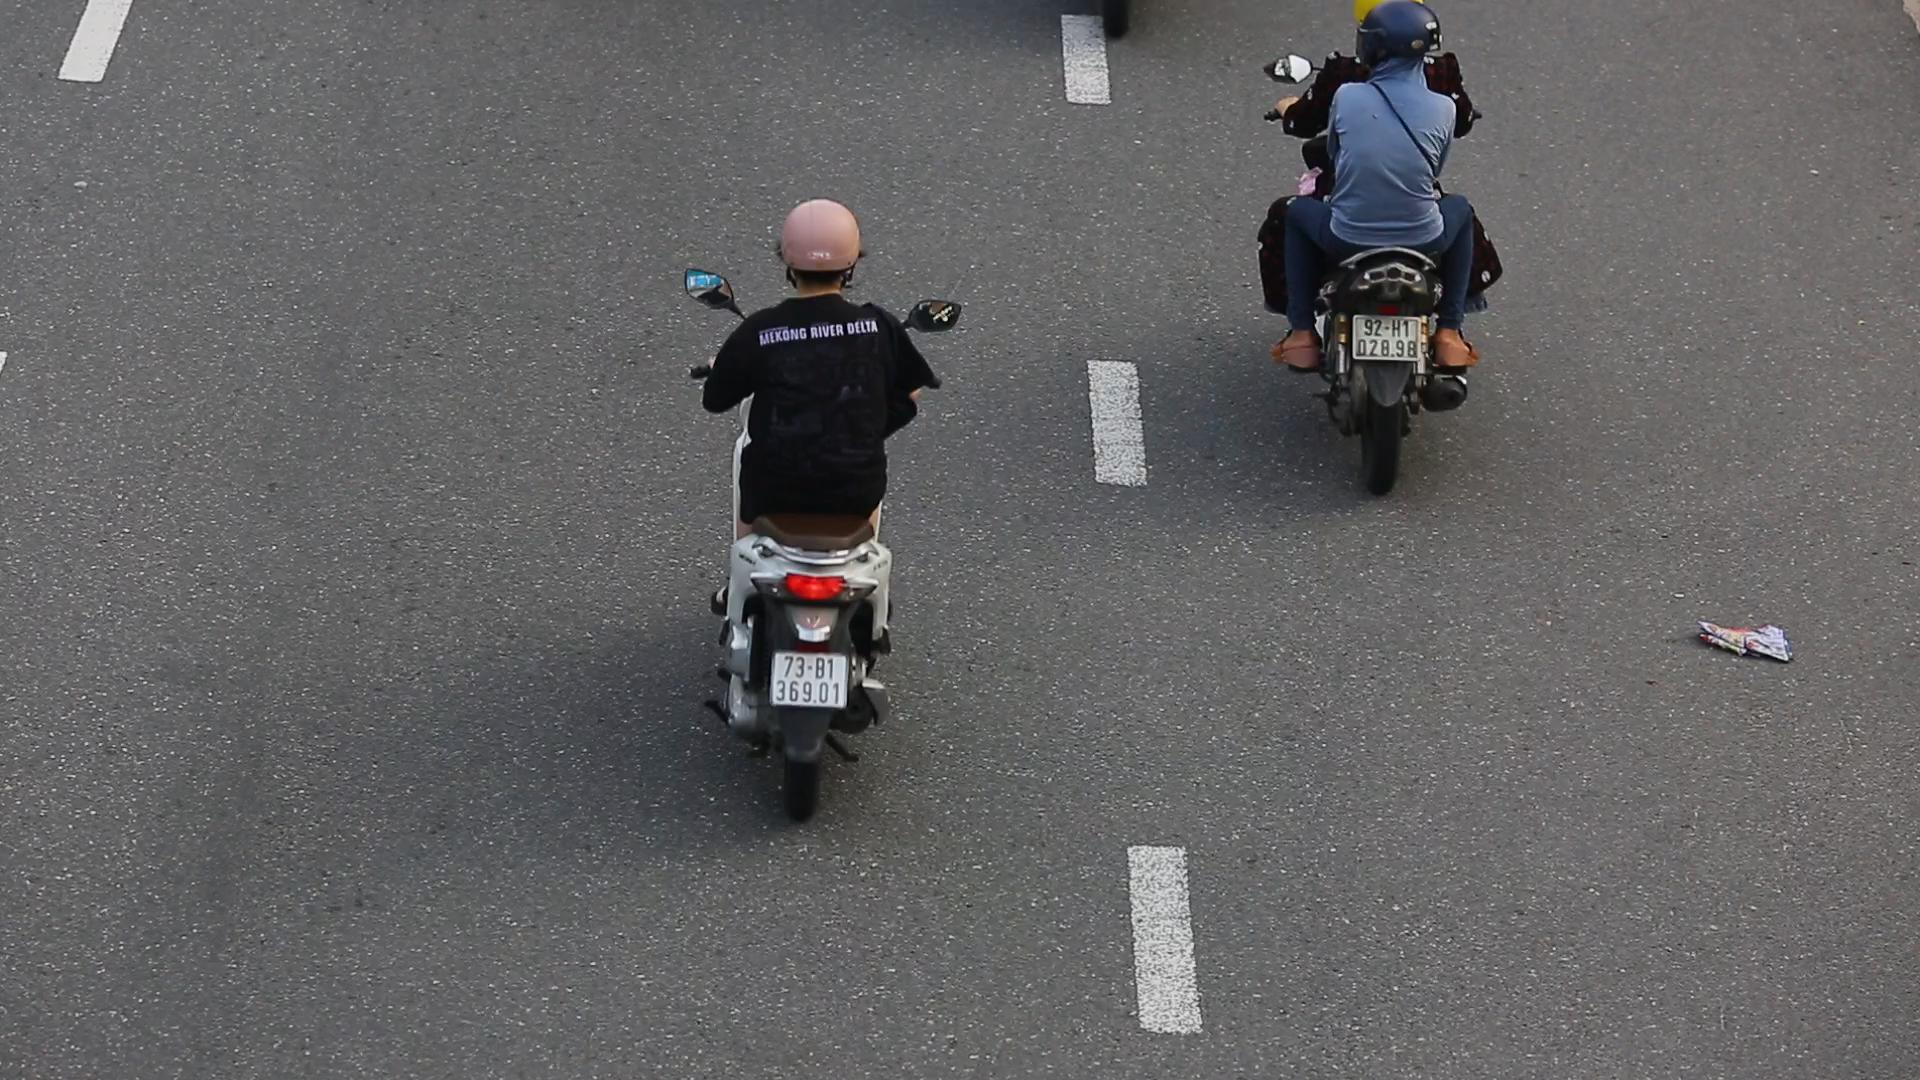motobike: (676, 170, 967, 829), (1237, 0, 1535, 505)
